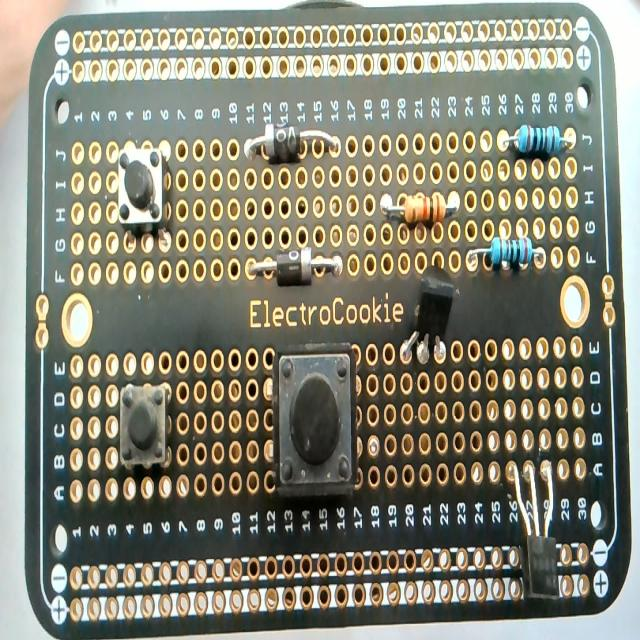diode: (242, 120, 341, 163), (249, 248, 344, 284)
resistor: (468, 236, 544, 272), (379, 192, 458, 226), (501, 123, 573, 157)
switch: (272, 344, 359, 494), (118, 146, 170, 235), (120, 382, 169, 468)
transistor: (506, 447, 566, 610), (400, 271, 458, 367)
